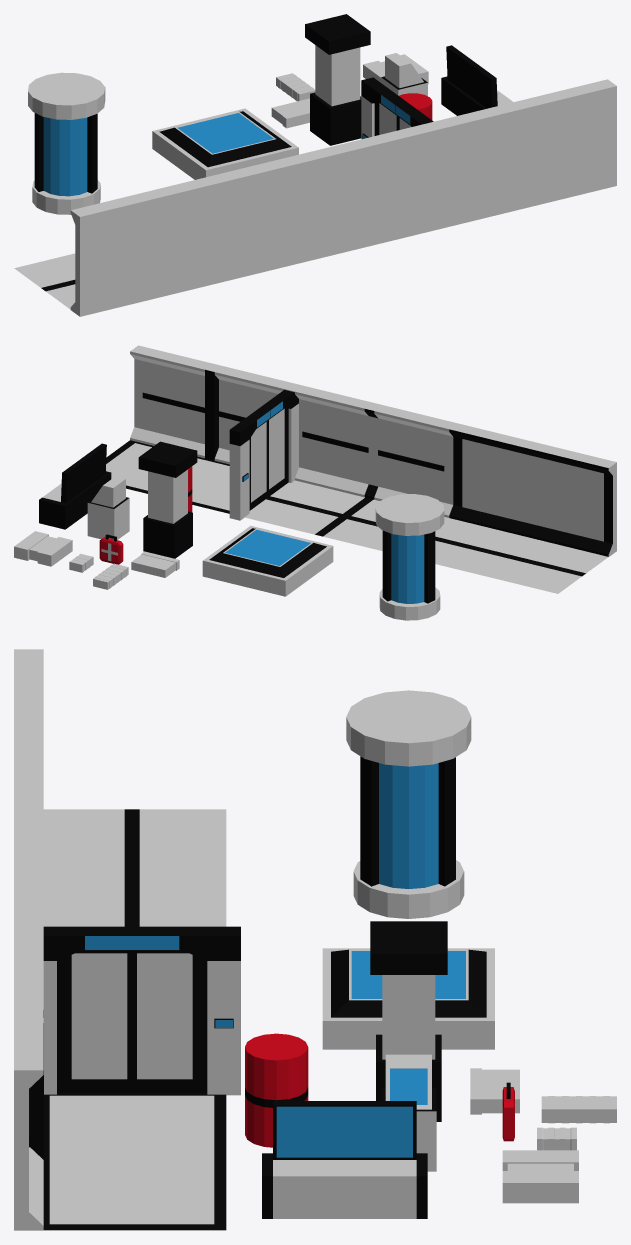
Rendered from prop.fbx.
3 renders of one model, top to bottom at view 1: azimuth 30°, elevation 25°; view 2: azimuth 150°, elevation 25°; view 3: azimuth 270°, elevation 25°, orthographic. The views are drawn at different scales.
Visible parts, largest first — view 1: wall2, wall, wall1, pillar_cylinder, table, pillar, comp_2, door_frame, floor2, comp, sniper_ammo, door (+3 smaller); view 2: wall2, wall1, wall, floor2, pillar_cylinder, table, floor, pillar, door_frame, floor1, comp_2, door (+5 smaller); view 3: floor1, pillar_cylinder, floor2, door, comp_2, door_frame, table, pillar, wall, barrel, wall2, wall1 (+5 smaller).
Part boxes in pixels (x1=…): wall2: x1=70, y1=166, x2=258, y2=316; wall: x1=429, y1=79, x2=616, y2=229; wall1: x1=250, y1=123, x2=437, y2=273; pillar_cylinder: x1=28, y1=72, x2=105, y2=214; table: x1=152, y1=108, x2=298, y2=179; pillar: x1=305, y1=14, x2=370, y2=145; comp_2: x1=441, y1=45, x2=513, y2=115; door_frame: x1=361, y1=77, x2=433, y2=139; floor2: x1=14, y1=253, x2=75, y2=309; comp: x1=381, y1=53, x2=427, y2=96; sniper_ammo: x1=271, y1=98, x2=309, y2=128; door: x1=374, y1=103, x2=411, y2=135; wall2: x1=449, y1=423, x2=616, y2=556; wall1: x1=289, y1=384, x2=456, y2=517; wall: x1=130, y1=345, x2=297, y2=464; floor2: x1=435, y1=518, x2=608, y2=593; pillar_cylinder: x1=375, y1=494, x2=444, y2=620; table: x1=202, y1=525, x2=333, y2=596; floor: x1=244, y1=480, x2=448, y2=550; pillar: x1=138, y1=441, x2=197, y2=558; door_frame: x1=229, y1=390, x2=298, y2=520; floor1: x1=106, y1=440, x2=229, y2=513; comp_2: x1=39, y1=443, x2=111, y2=529; door: x1=249, y1=408, x2=288, y2=510; floor1: x1=43, y1=1092, x2=226, y2=1230; pillar_cylinder: x1=346, y1=690, x2=471, y2=918; floor2: x1=43, y1=809, x2=226, y2=926; door: x1=57, y1=951, x2=207, y2=1092; comp_2: x1=262, y1=1101, x2=427, y2=1218; door_frame: x1=43, y1=926, x2=240, y2=1095; table: x1=322, y1=948, x2=494, y2=1049; pillar: x1=370, y1=921, x2=447, y2=1121; wall: x1=14, y1=930, x2=43, y2=1230; barrel: x1=245, y1=1033, x2=308, y2=1147; wall2: x1=14, y1=649, x2=43, y2=789; wall1: x1=14, y1=789, x2=43, y2=929.
Size of the model in its own units: 1800 by 360 by 1090.
